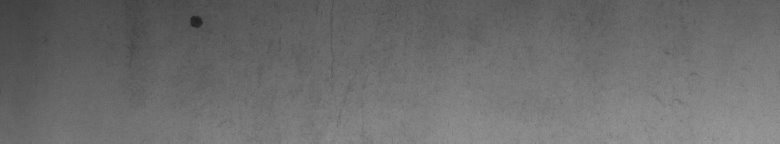fi: (184, 8, 208, 36)
